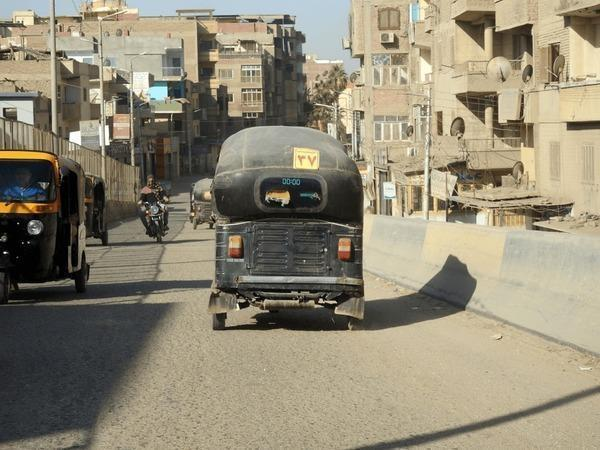keke: (204, 122, 370, 331), (0, 146, 86, 308)
